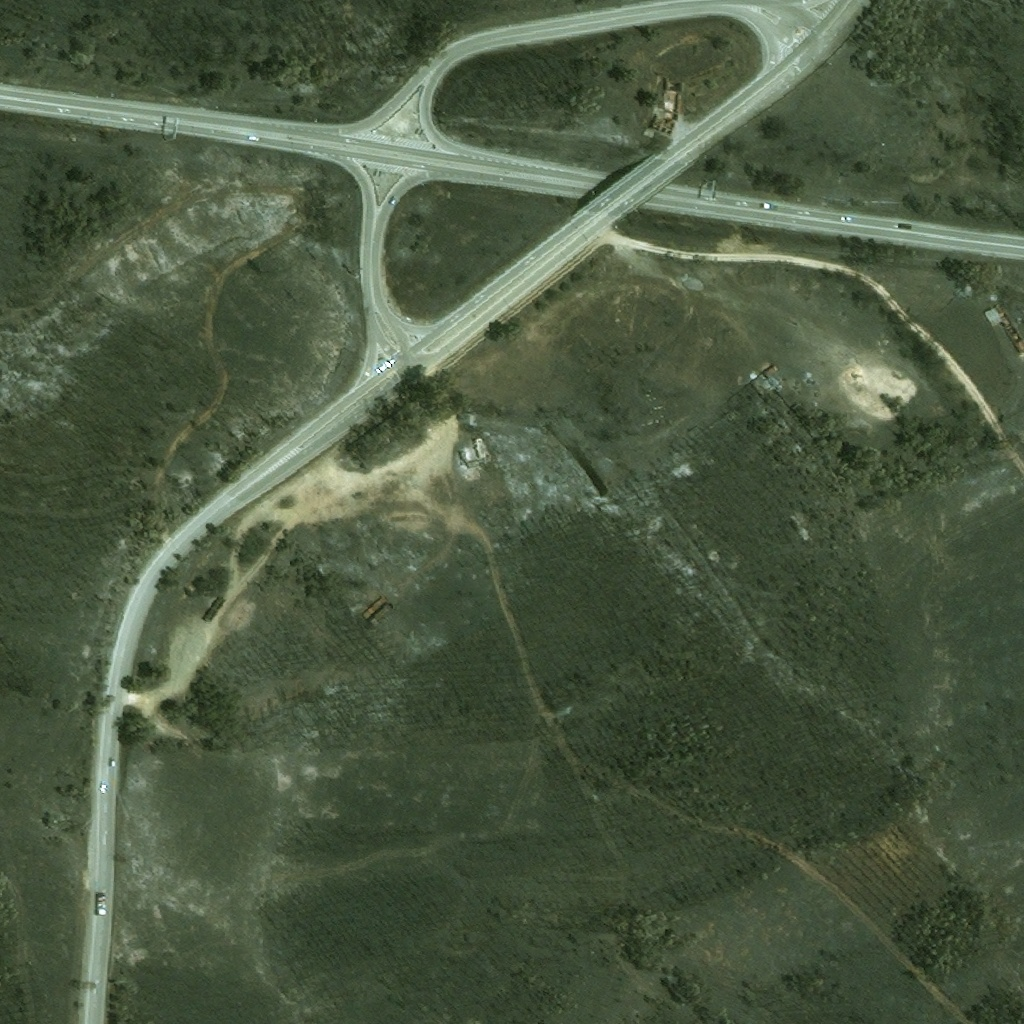0 no-damage: (983, 305, 1002, 326), (763, 362, 778, 378)
3 destroyed: (649, 82, 682, 134), (997, 307, 1021, 344), (1013, 340, 1023, 353)
